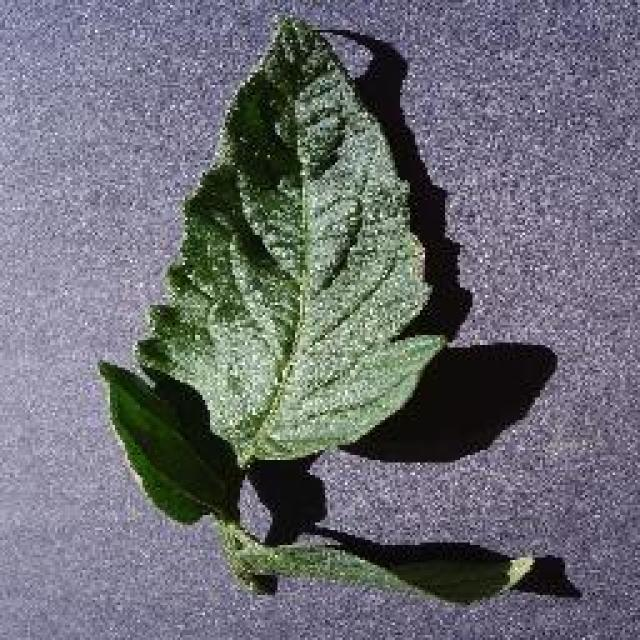Healthy: (88, 0, 452, 605)
